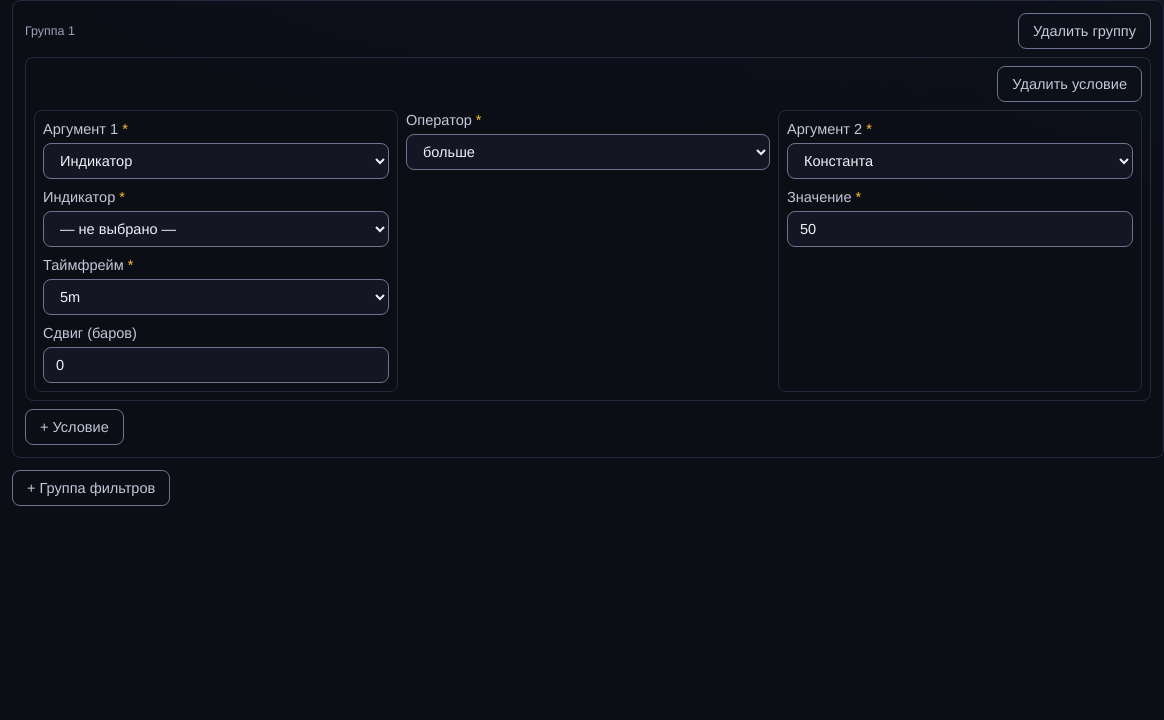
Test case: MVP-7.2 I3: предзаполнение из каталога и пометка источника › выбор RSI подставляет период 14 и показывает «по умолчанию (Veles)»
Select "RSI" in the dropdown named "Индикатор" at {"x": 216, "y": 229}, box 43,211 -> 389,247
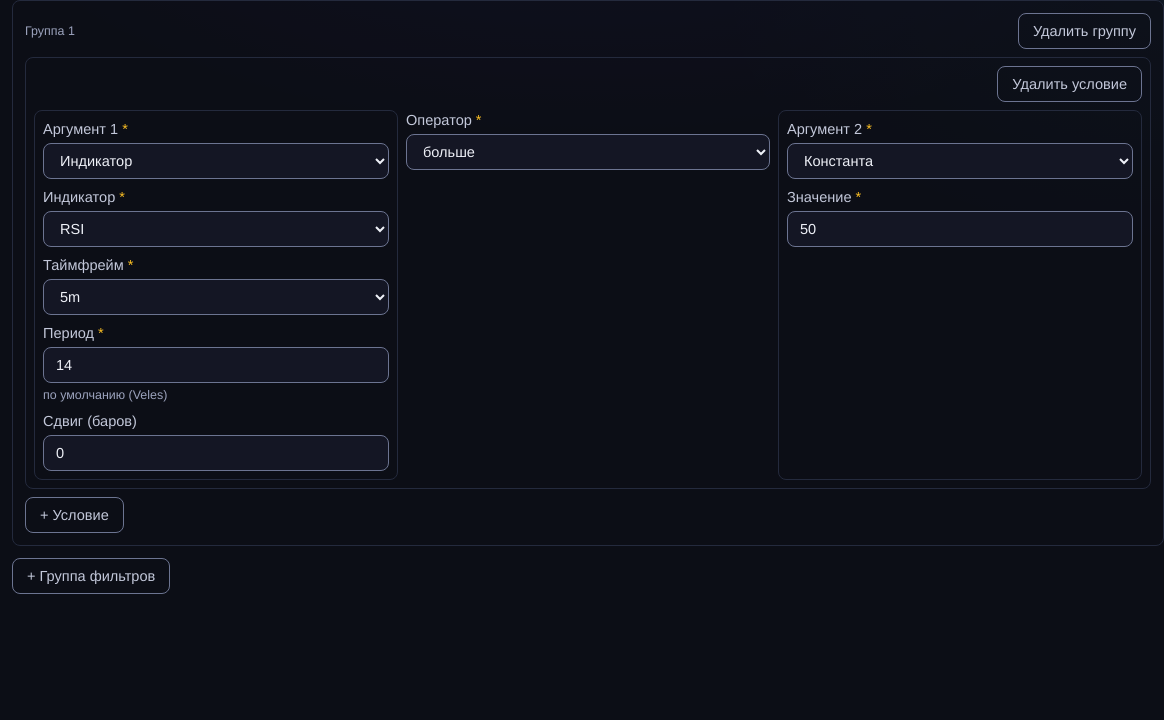
Expected: the dropdown named "Таймфрейм" shows "5m", 43,279 -> 389,315
Expected: the number field named "Период" holds "14", 43,347 -> 389,383
Expected: the text "по умолчанию (Veles)" is shown, 43,387 -> 167,402
